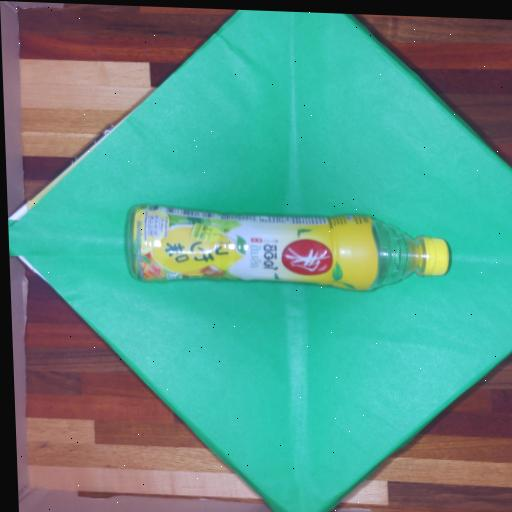bottle: (127, 206, 449, 289)
